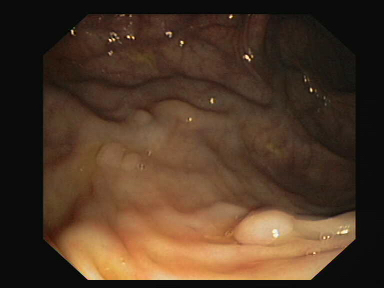polyp: (234, 206, 298, 244), (97, 138, 144, 172), (152, 95, 194, 123), (129, 107, 155, 128)
